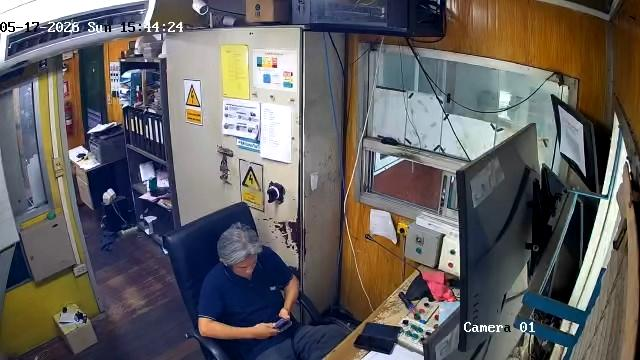Head: (217, 222, 270, 277)
People: (198, 223, 341, 359)
Phone: (353, 335, 396, 355), (271, 317, 294, 332)
